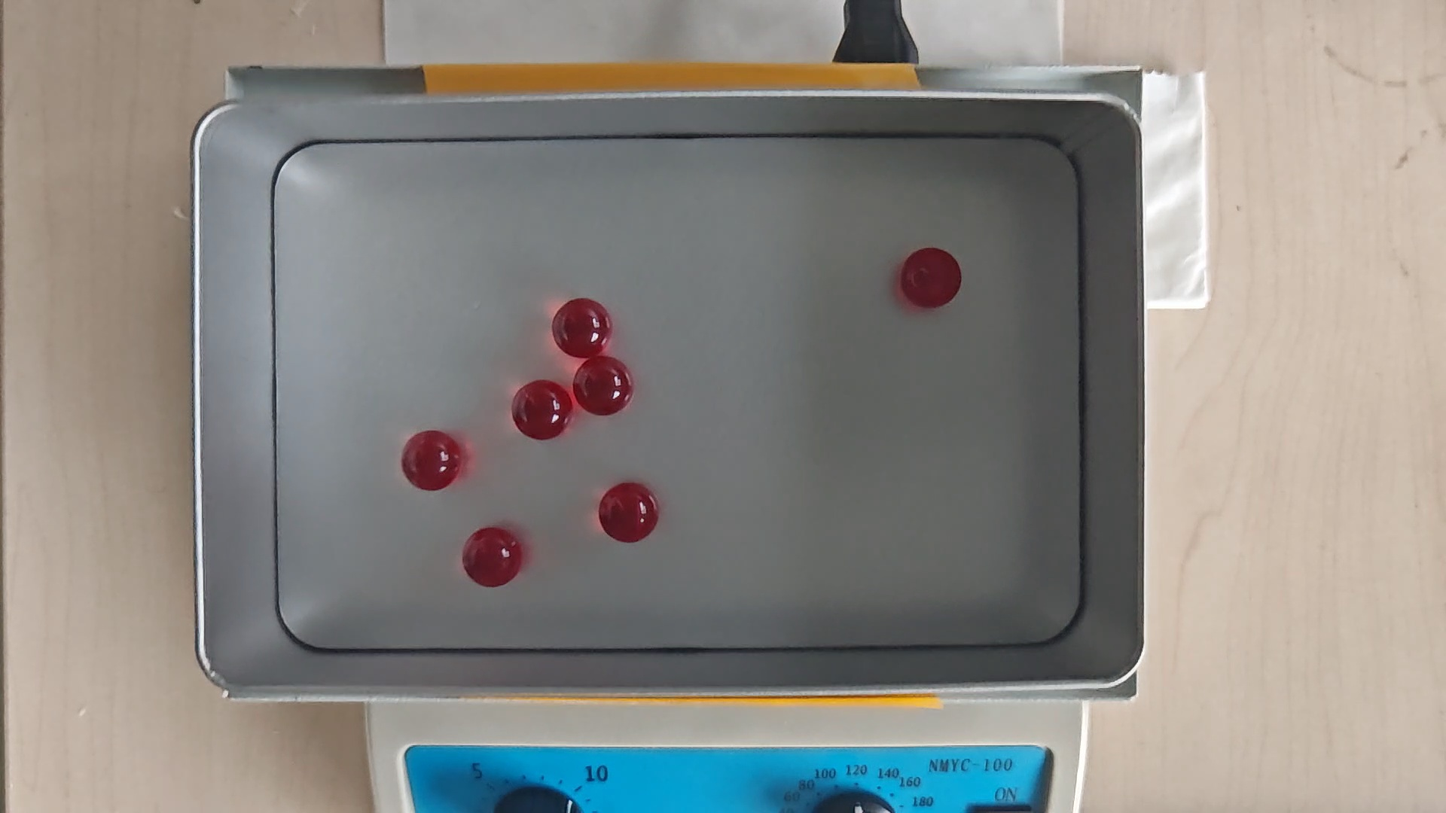ball: (898, 247, 963, 310), (509, 379, 574, 441), (551, 297, 613, 360), (400, 429, 461, 491), (597, 482, 659, 543), (574, 357, 636, 418), (462, 526, 521, 588)
container: (270, 135, 1084, 650)
